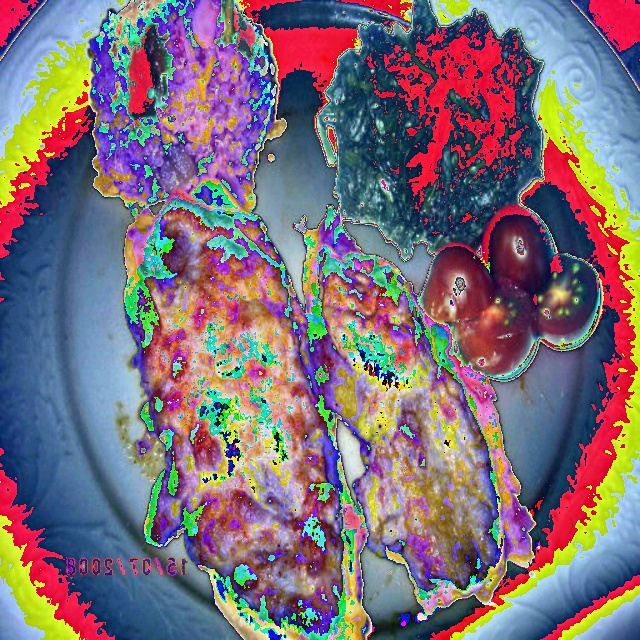background: (85, 0, 601, 640)
